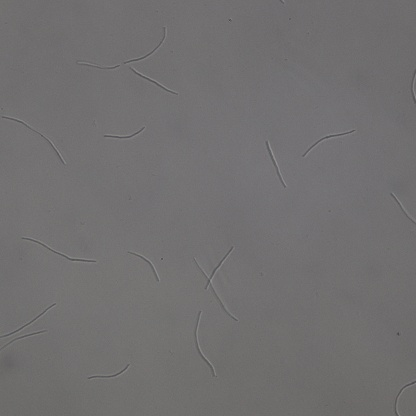Sensitive: (193, 246, 237, 321), (3, 116, 65, 163), (23, 234, 96, 263), (1, 304, 57, 338), (191, 311, 214, 379), (125, 27, 168, 62), (304, 130, 356, 156), (1, 330, 47, 359), (129, 69, 176, 93), (267, 141, 286, 188), (130, 251, 159, 281), (88, 363, 129, 384), (392, 381, 416, 416), (391, 194, 416, 225), (105, 125, 145, 140)
